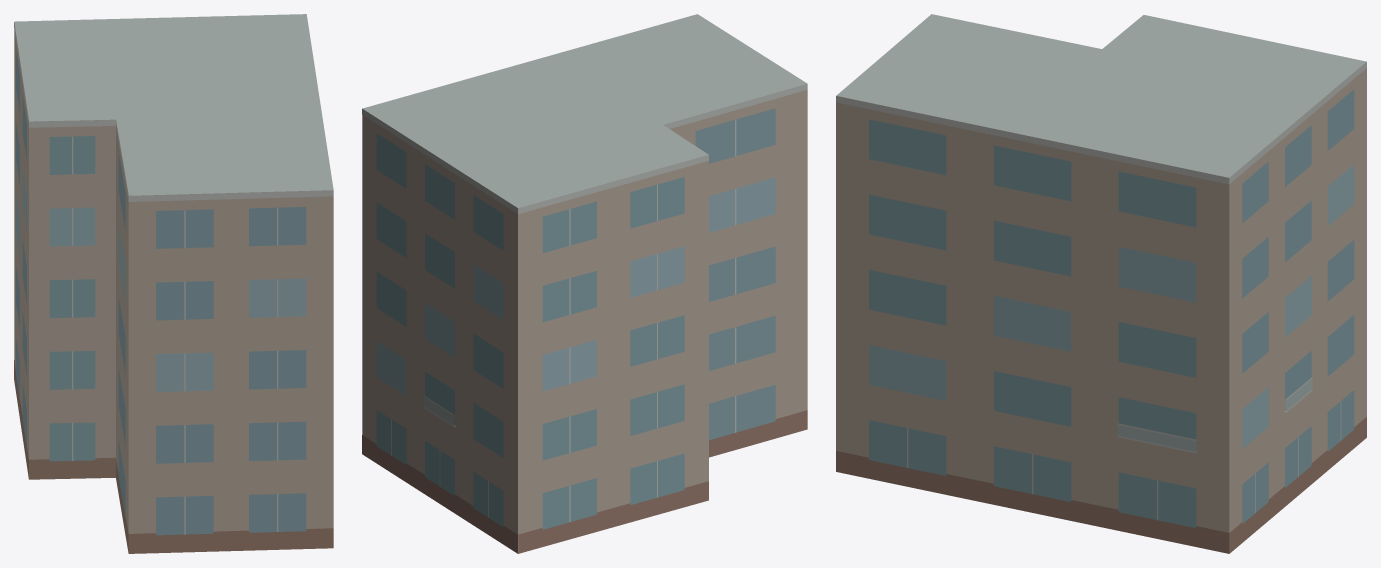
File: survey-upis-32533667.glb
3 views of the same model, side by side, from view 1: azimuth 30°, elevation 25°; view 2: azimuth 150°, elevation 25°; view 3: azimuth 270°, elevation 25° (orthographic). The views are drawn at different scales.
Visible parts, largest first — view 1: survey-upis-32533667.tmp; view 2: survey-upis-32533667.tmp; view 3: survey-upis-32533667.tmp.
Part boxes in pixels (bbox=[...]): survey-upis-32533667.tmp: bbox=[14, 14, 333, 553]; survey-upis-32533667.tmp: bbox=[362, 14, 807, 553]; survey-upis-32533667.tmp: bbox=[836, 14, 1366, 553].
Size of the model in its own units: 13.19 by 14.1 by 18.05.
